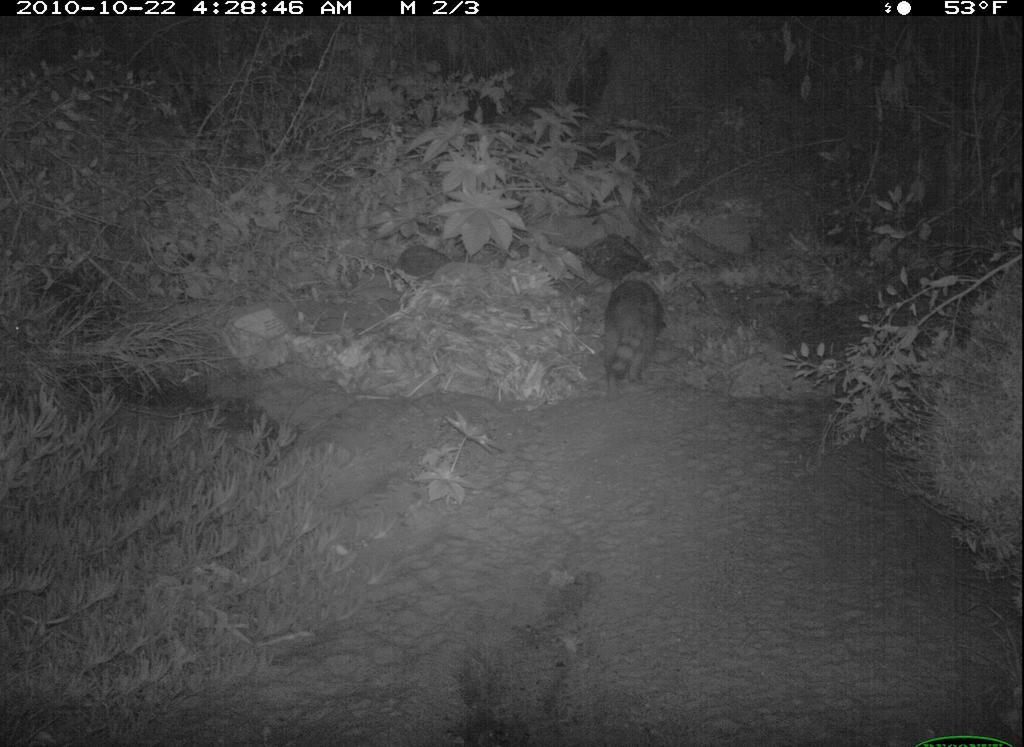raccoon: (577, 268, 688, 405)
